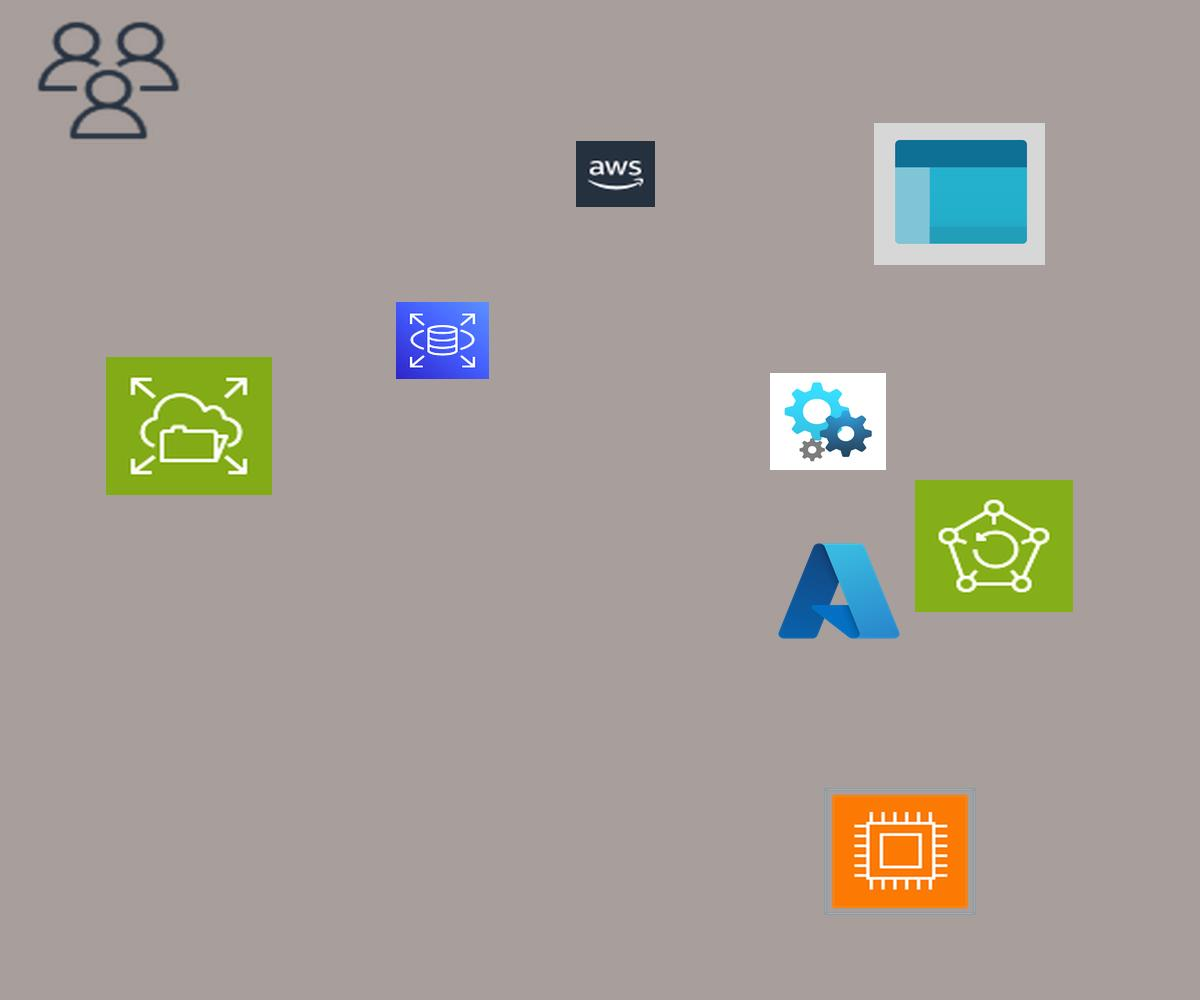AWS-Backup: (915, 480, 1073, 612)
AWS-Category_Compute: (824, 788, 976, 915)
AWS-Cloud-logo: (576, 141, 655, 207)
AWS-EFS: (106, 357, 272, 495)
AWS-RDS: (396, 302, 489, 379)
AWS-Res_Users: (32, 17, 185, 144)
Azure_api: (770, 373, 886, 470)
Azure_management-portal: (874, 123, 1045, 265)
Azure_services: (773, 536, 905, 646)
